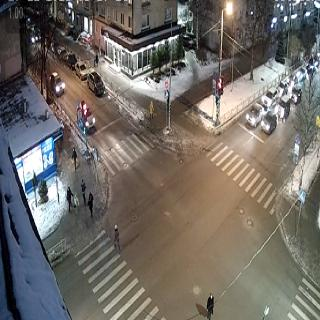small-vehicle: (76, 101, 95, 129), (259, 105, 276, 134), (86, 70, 104, 96), (246, 101, 264, 126), (46, 70, 63, 94), (262, 89, 279, 108), (275, 97, 289, 120), (72, 61, 88, 81), (275, 74, 291, 92), (294, 66, 313, 80), (288, 86, 304, 101), (25, 24, 37, 43), (65, 50, 77, 68), (306, 55, 319, 70), (56, 44, 67, 61)
